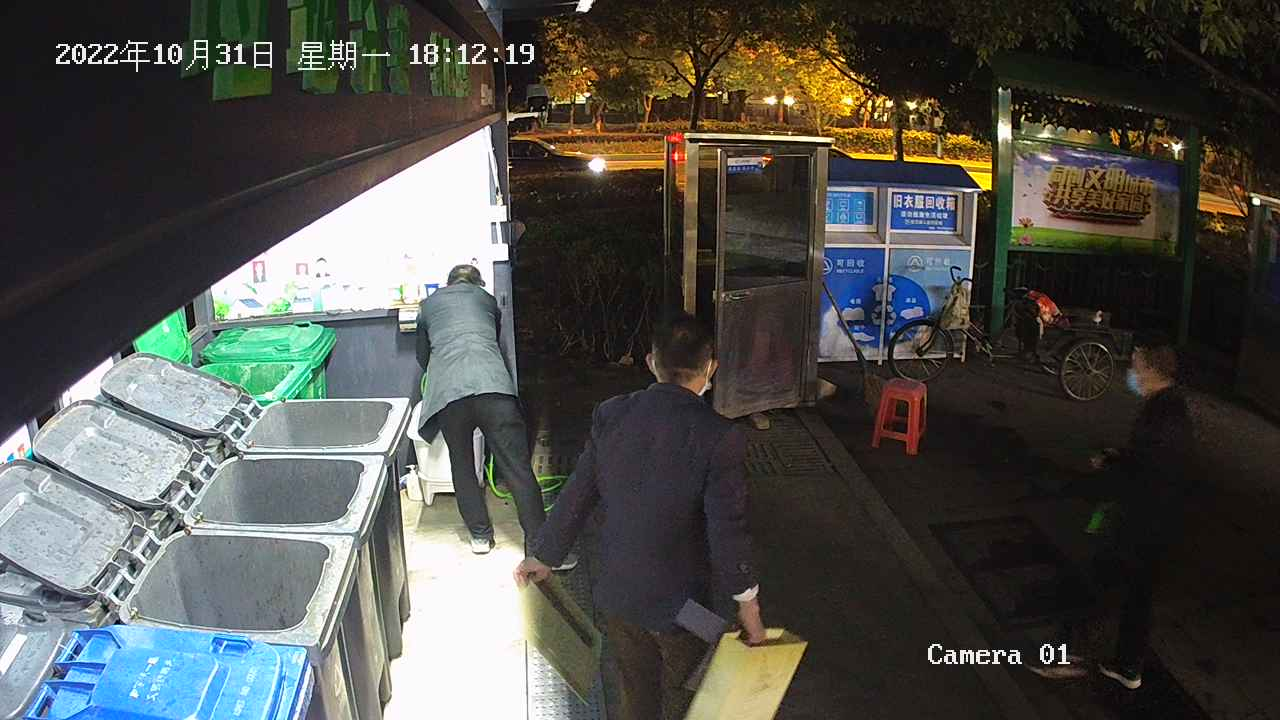person: (511, 310, 770, 720), (1018, 338, 1187, 689), (412, 261, 582, 572)
zhizhipin: (519, 567, 605, 709), (681, 626, 810, 720)
